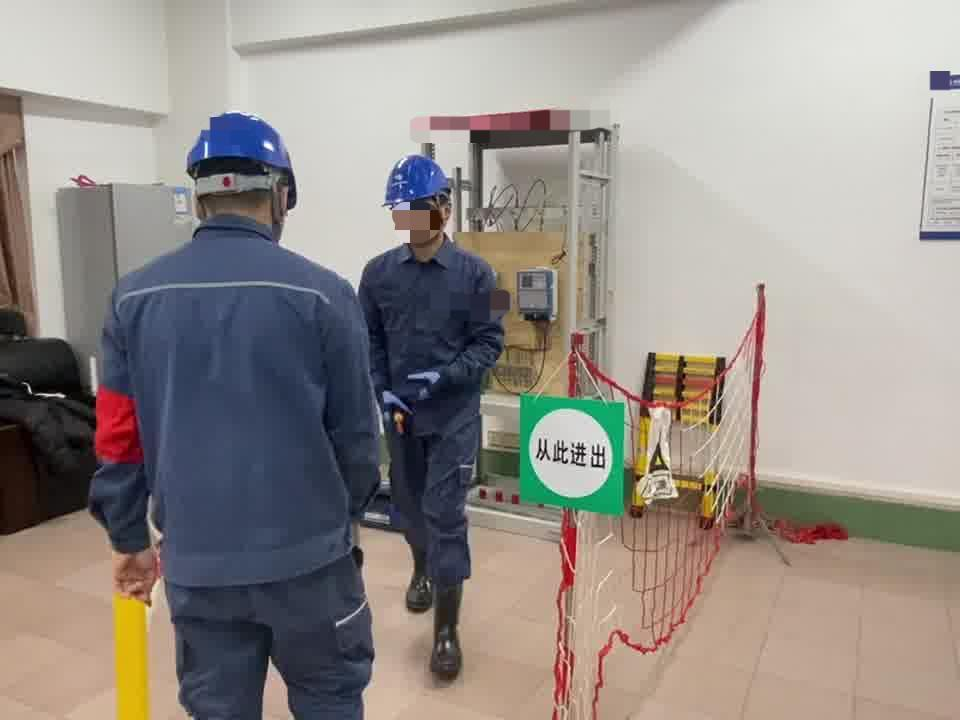halt: (185, 114, 303, 236), (384, 155, 459, 254)
inear: (274, 184, 297, 228), (432, 197, 457, 236)
